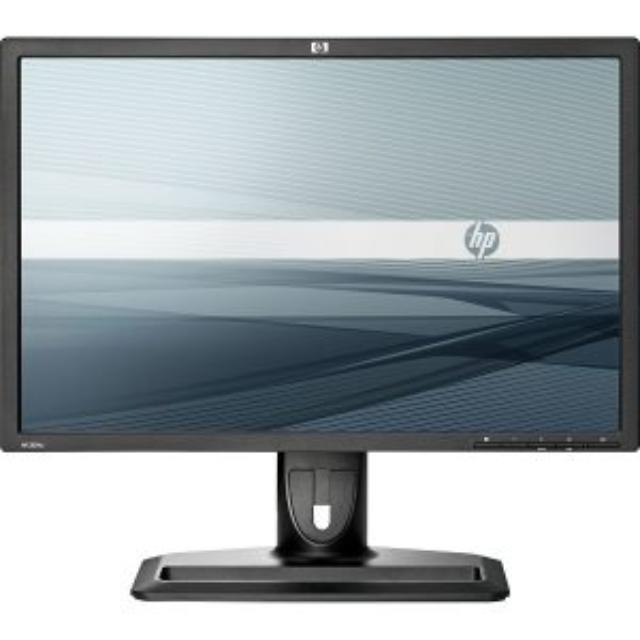Flat-Panel-Monitor: (0, 33, 638, 453)
